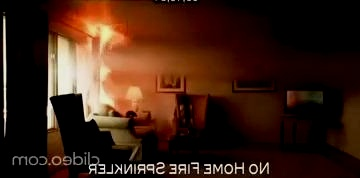fire: (68, 0, 131, 106)
